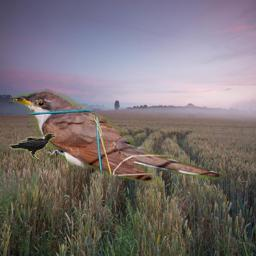Crow: (9, 133, 56, 159)
Cuckoo: (9, 86, 227, 192)
